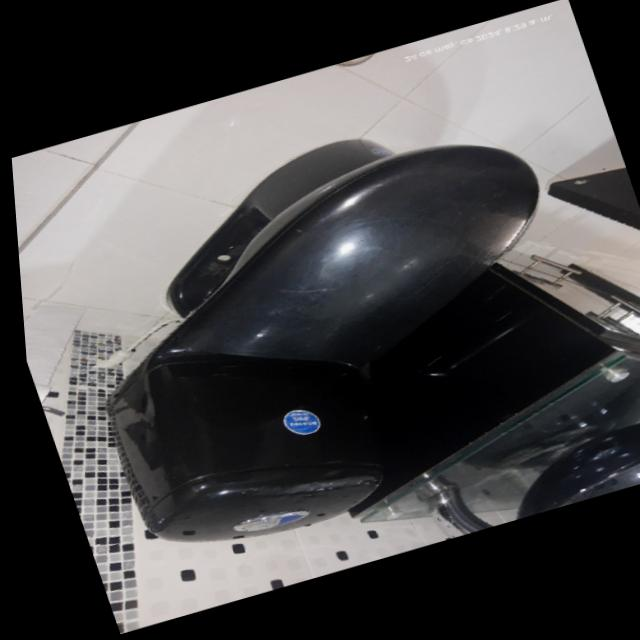toilet: (27, 92, 626, 572)
